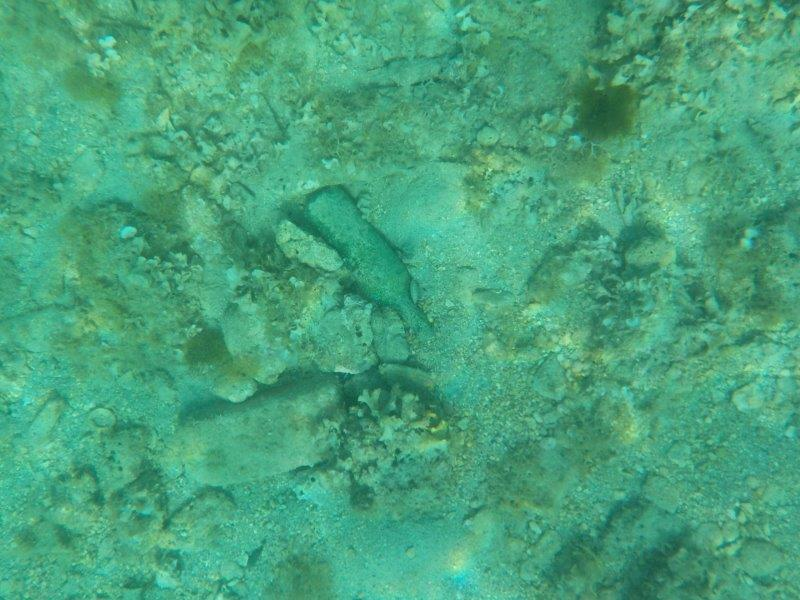bottle: (299, 179, 437, 340)
